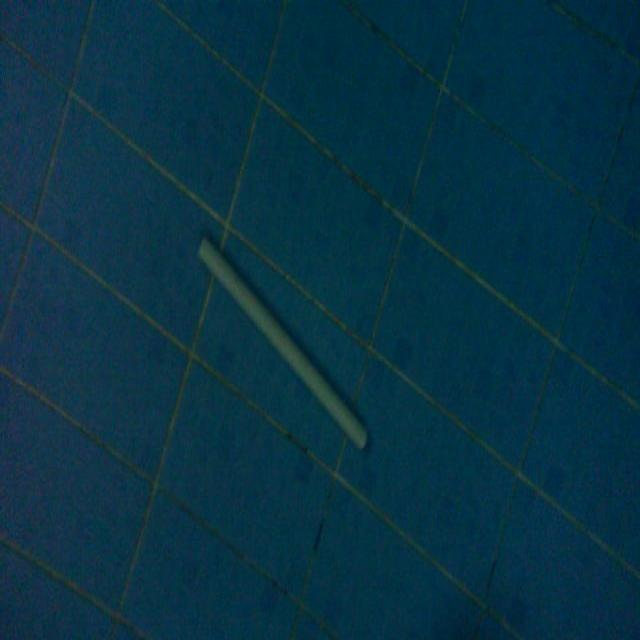Cube: (195, 231, 369, 453)
